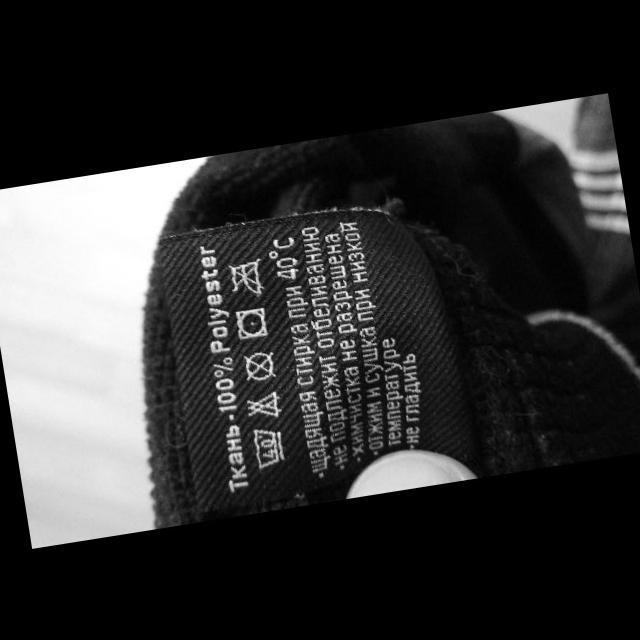40C: (248, 422, 292, 473)
DN_bleach: (242, 383, 287, 426)
DN_dry_clean: (240, 344, 280, 386)
DN_iron: (226, 253, 270, 300)
tumble_dry_low: (232, 304, 271, 342)
